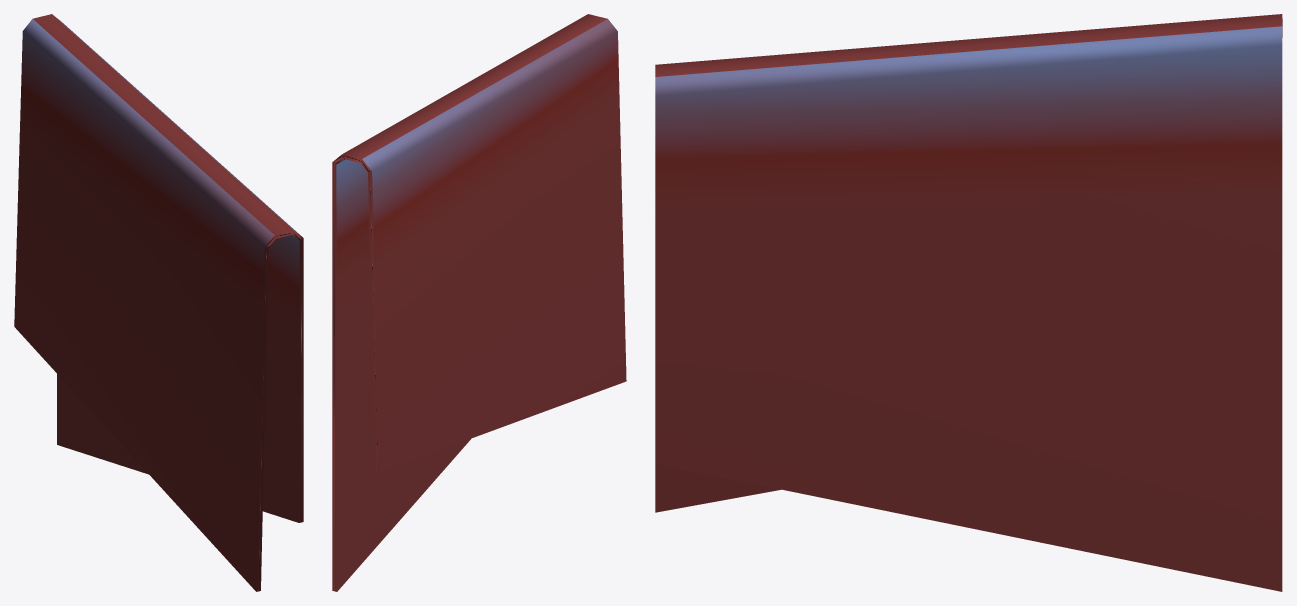
Rendered from Bathroom2_towel.fbx.
3 views of the same model, side by side, from view 1: azimuth 30°, elevation 25°; view 2: azimuth 150°, elevation 25°; view 3: azimuth 270°, elevation 25° (orthographic). The views are drawn at different scales.
Visible parts, largest first — view 1: Bathroom2_towel; view 2: Bathroom2_towel; view 3: Bathroom2_towel.
Boxes of the visible parts, x1,y1,x2,y2 form: Bathroom2_towel: [14, 14, 303, 591]; Bathroom2_towel: [332, 14, 626, 591]; Bathroom2_towel: [655, 14, 1282, 591].
Bounding box in the file's own units: 9.11 × 79.38 × 80.63.
